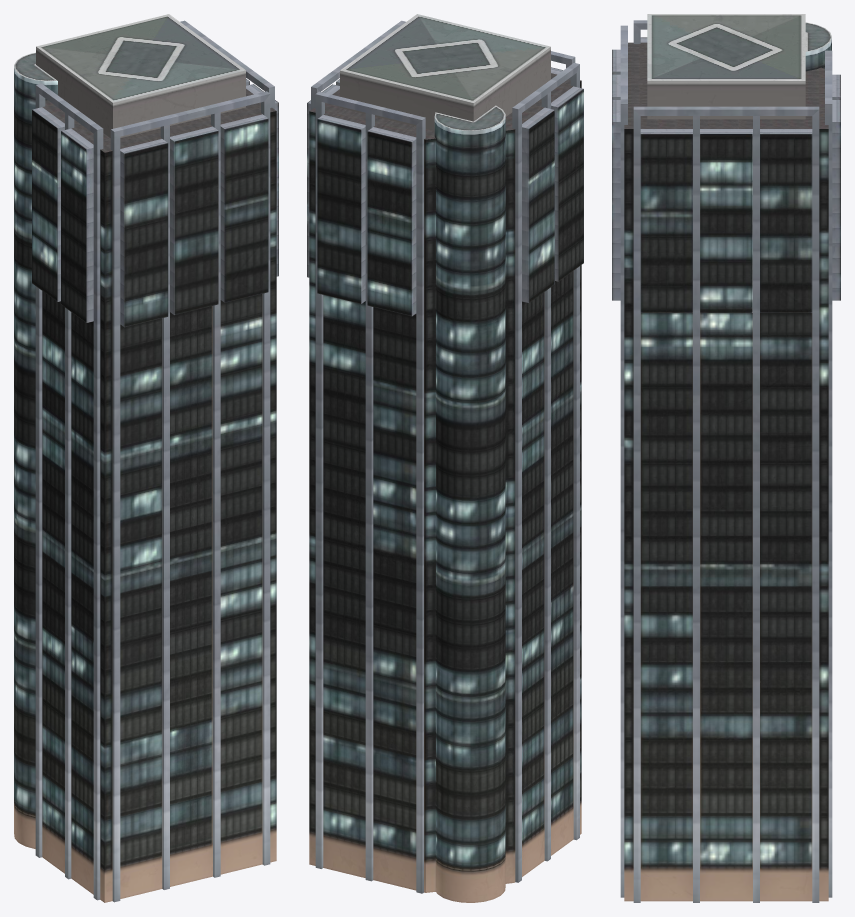
Rendered from Frankfurt_Eurotheum_LOD0.glb.
The picture shows the model from 3 angles, left to right: view 1: azimuth 30°, elevation 25°; view 2: azimuth 150°, elevation 25°; view 3: azimuth 270°, elevation 25°; orthographic projection. The views are drawn at different scales.
Visible parts, largest first — view 1: Frankfurt_Eurotheum_LOD0; view 2: Frankfurt_Eurotheum_LOD0; view 3: Frankfurt_Eurotheum_LOD0.
Part boxes in pixels (x1,y1,x2,y2): Frankfurt_Eurotheum_LOD0: [14, 14, 278, 902]; Frankfurt_Eurotheum_LOD0: [307, 14, 583, 902]; Frankfurt_Eurotheum_LOD0: [612, 14, 840, 902].
Bounding box in the file's own units: 50.74 × 198 × 50.74.
1 material, 1 textured.
